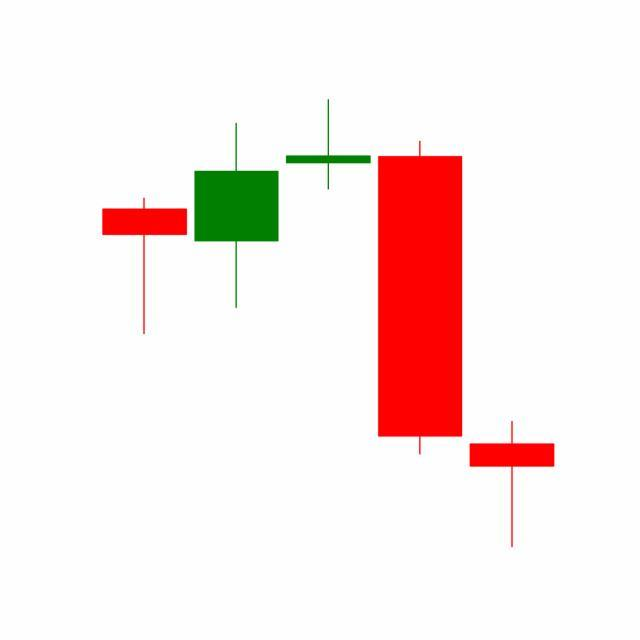Evening Star: (190, 100, 467, 461)
